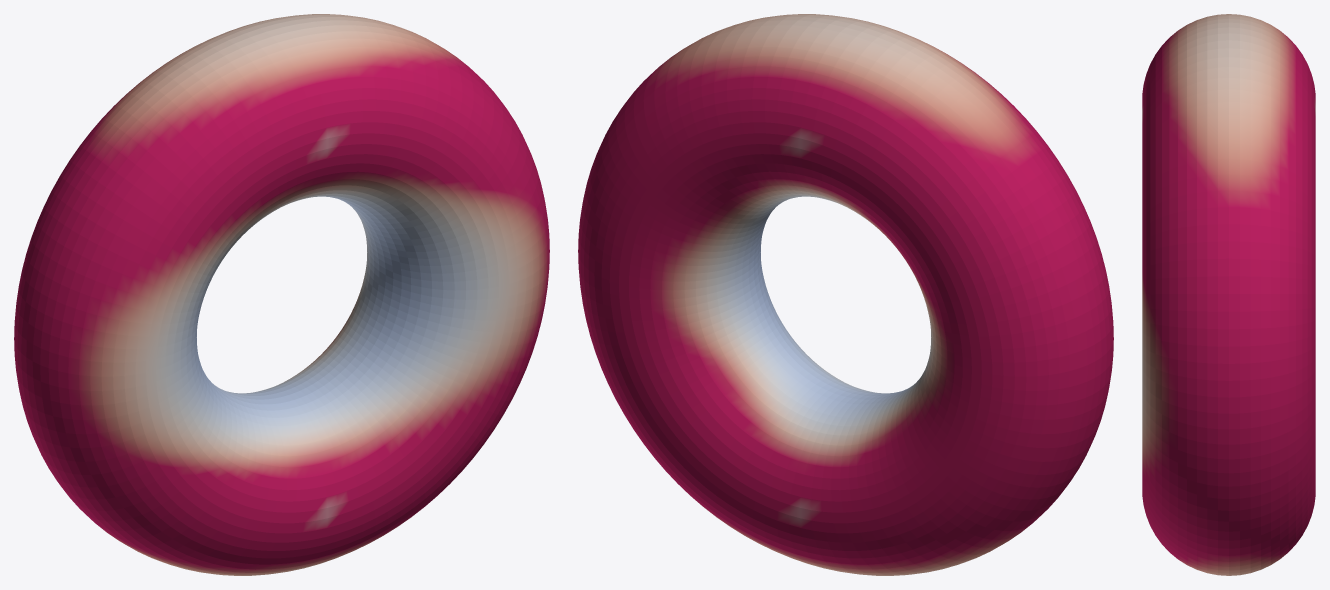
3 views of the same model, side by side, from view 1: azimuth 30°, elevation 25°; view 2: azimuth 150°, elevation 25°; view 3: azimuth 270°, elevation 25° (orthographic). The views are drawn at different scales.
Visible parts, largest first — view 1: world; view 2: world; view 3: world.
Part boxes in pixels (<box>): world: <box>14,14,549,575</box>; world: <box>578,14,1113,575</box>; world: <box>1142,14,1315,575</box>.
Size of the model in its own units: 28 by 28 by 8.65.
